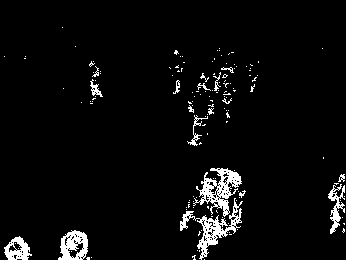person: (182, 163, 243, 260)
